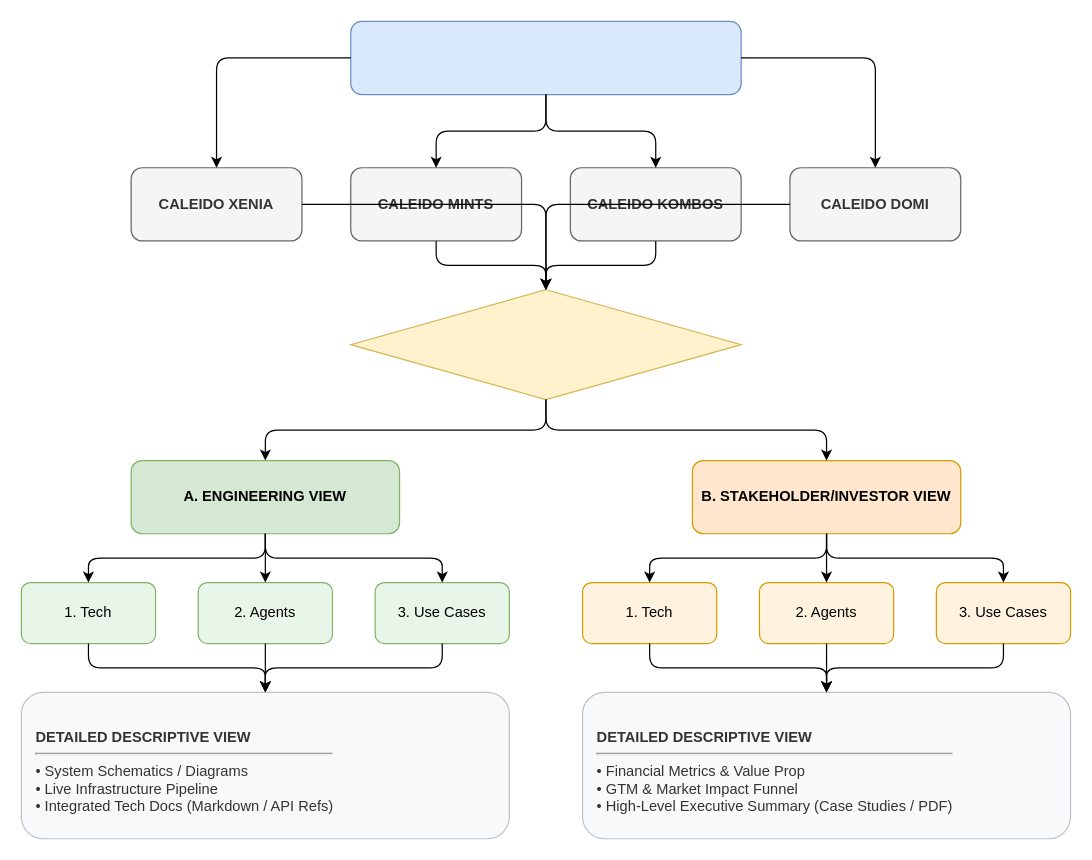
Image size: 1092x860. Some labels were removed from this diagram. Each missing label, with the centre of its shape:
CIELO EPIC HOME SCREEN: point (545, 57)
SELECT AUDIENCE PERSPECTIVE LENSE: point (545, 344)
